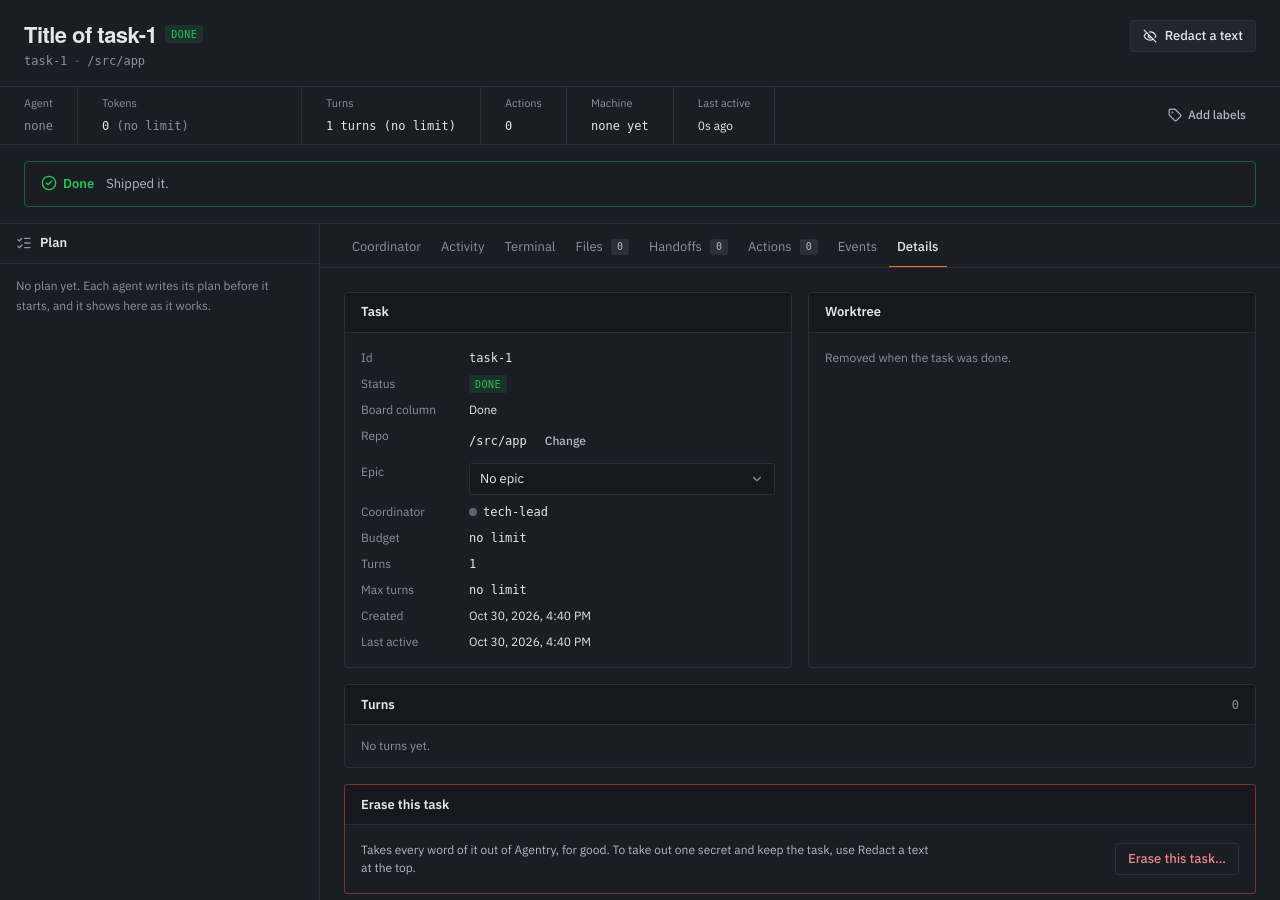
it: TaskPage erasing the task › shows a refusal in the server's words, and the task as it was
Click the button "Erase this task…".
click(1177, 859)  # box x1=1115 y1=843 x2=1239 y2=875
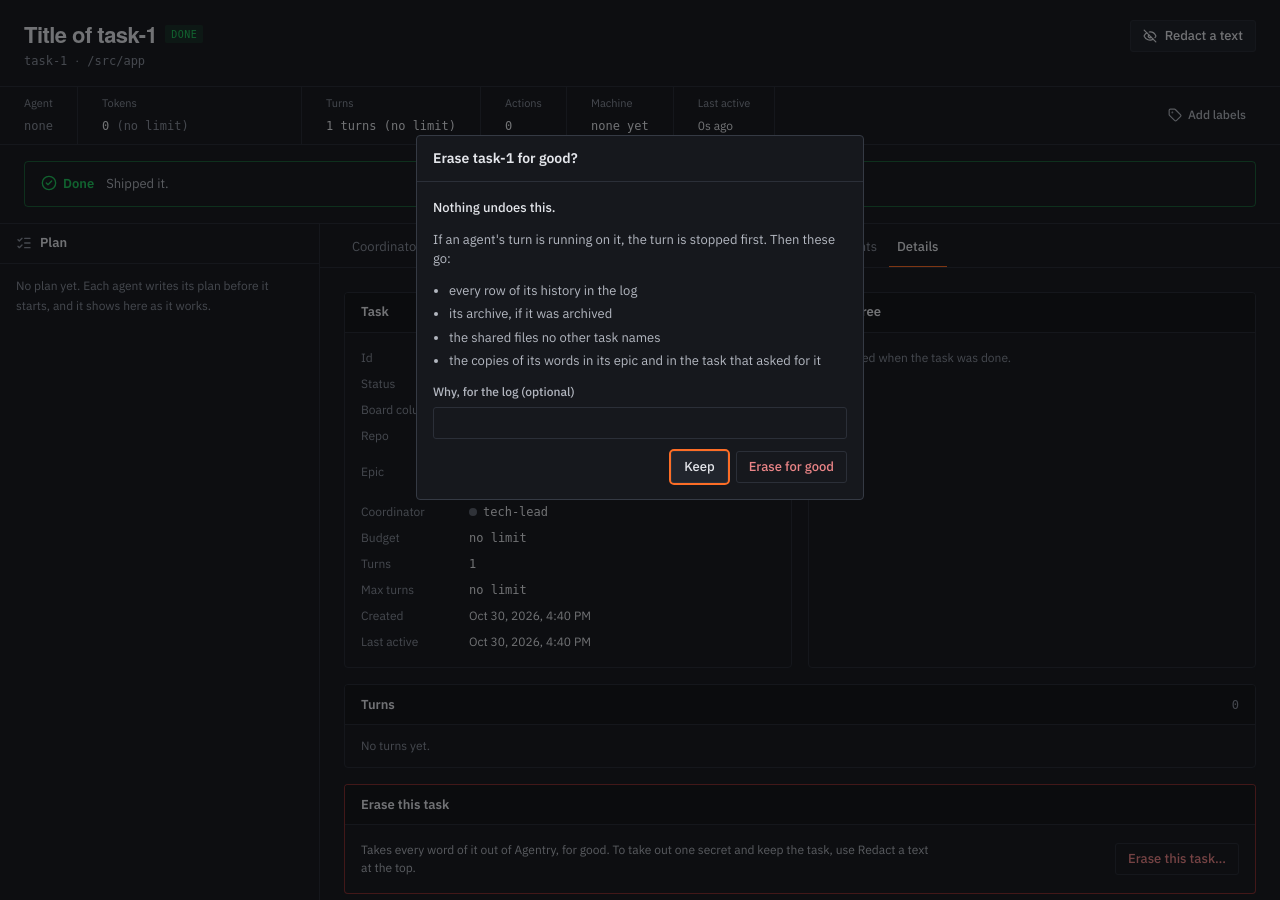
Click the button "Erase for good".
click(791, 466)  # box x1=736 y1=450 x2=847 y2=482
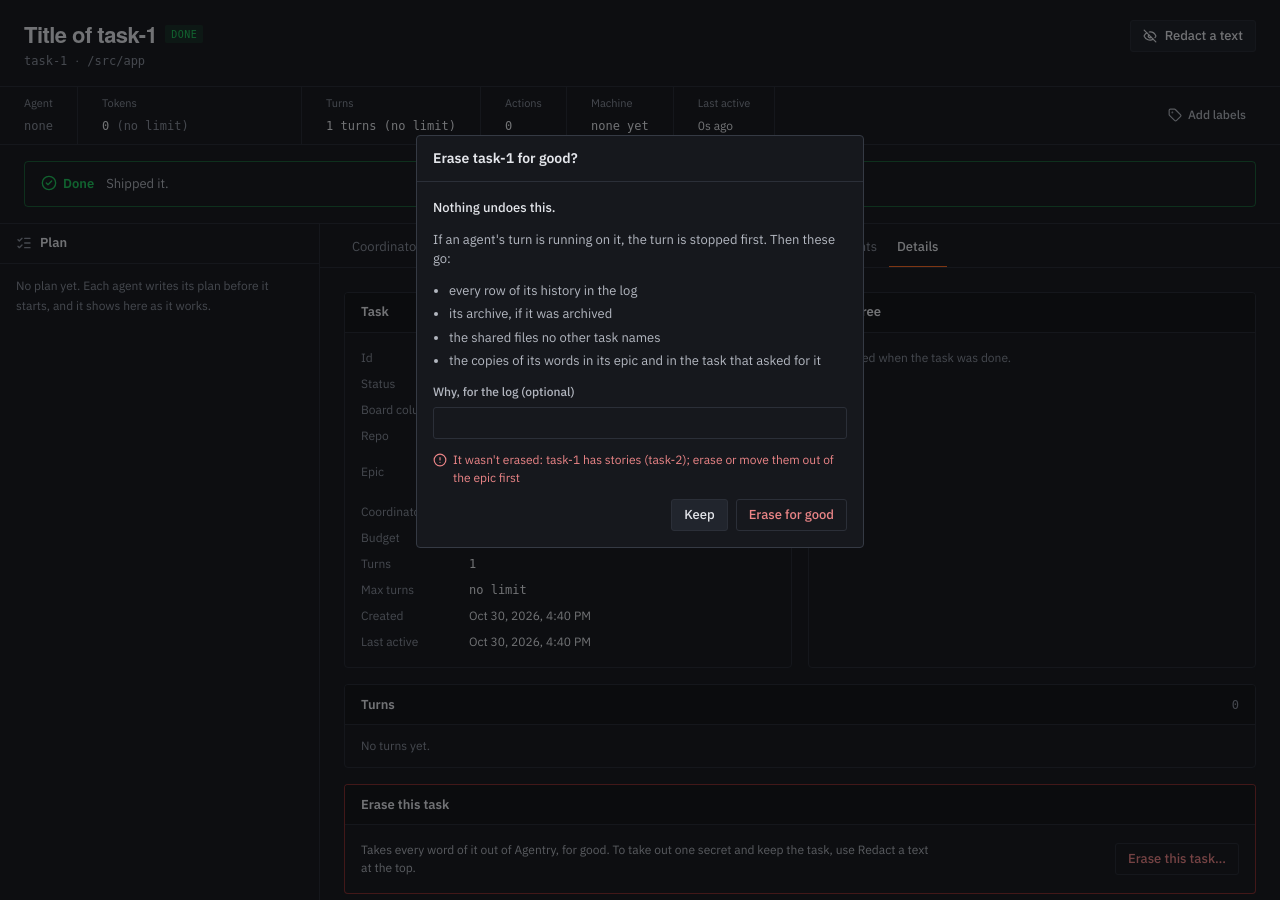
Expected: the text "It wasn't erased: task-1 has stories (task-2); erase or move them out of the epic first" is shown, x1=453 y1=450 x2=847 y2=486
